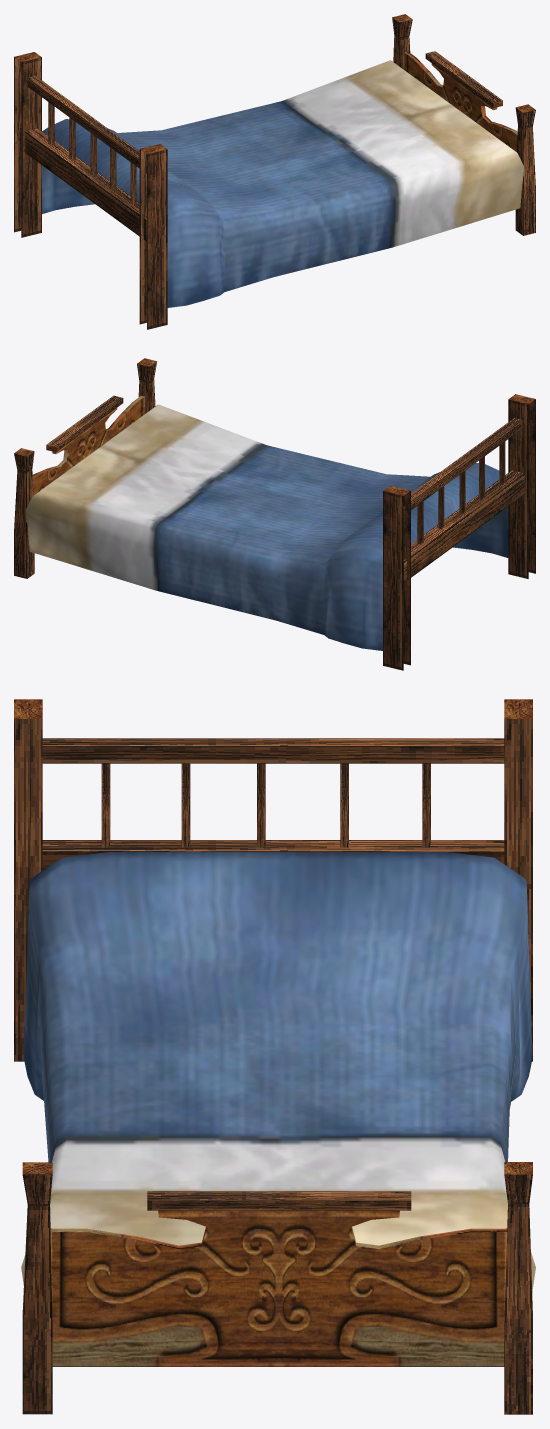
Rendered from INST_LT_BED1.obj.
3 views of the same model, one above another, from view 1: azimuth 30°, elevation 25°; view 2: azimuth 150°, elevation 25°; view 3: azimuth 270°, elevation 25° (orthographic). The views are drawn at different scales.
Visible parts, largest first — view 1: Inst_bed1_; view 2: Inst_bed1_; view 3: Inst_bed1_.
Part boxes in pixels (x1,y1,x2,y2): Inst_bed1_: (14, 14, 535, 329); Inst_bed1_: (14, 358, 535, 670); Inst_bed1_: (14, 699, 535, 1414).
Bounding box in the file's own units: 232 × 99.59 × 138.
